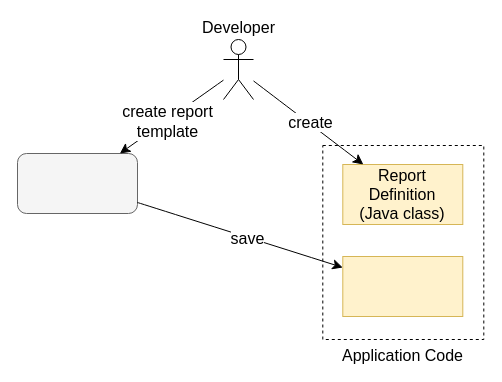
Image size: 502x382. Some labels were removed from this diagram. The centre of each missing label's shape, as x and y in pixels:
"Office Applications" goes at pixel 77 183.
"Report Template (resource file)" goes at pixel 402 286.
